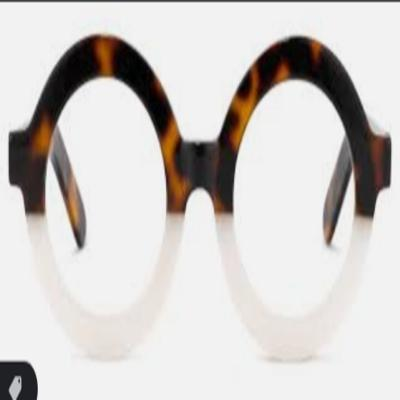glasses: (5, 28, 400, 366)
